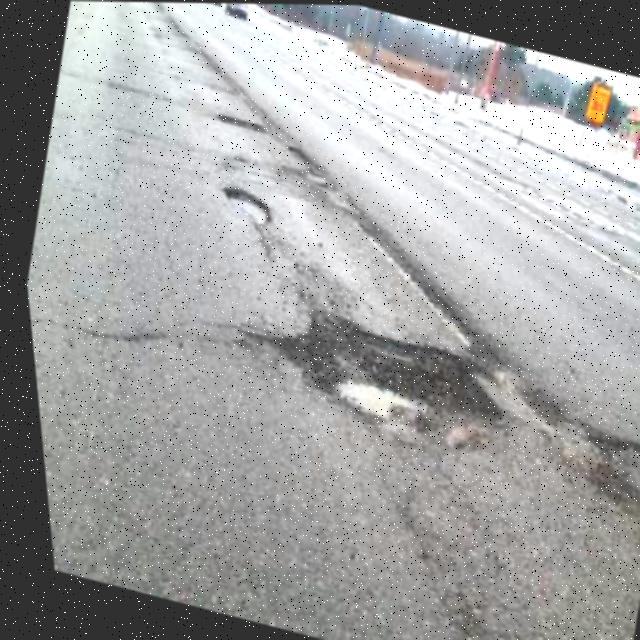Pothole: (252, 295, 516, 451), (205, 175, 274, 230), (210, 107, 267, 133)
